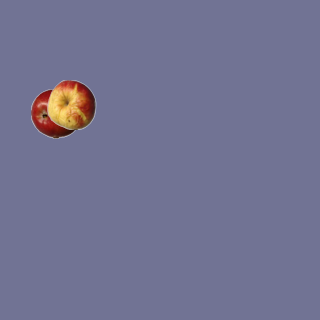Apple Braeburn: (30, 88, 80, 138)
Apple Red Yellow 1: (46, 79, 96, 129)
